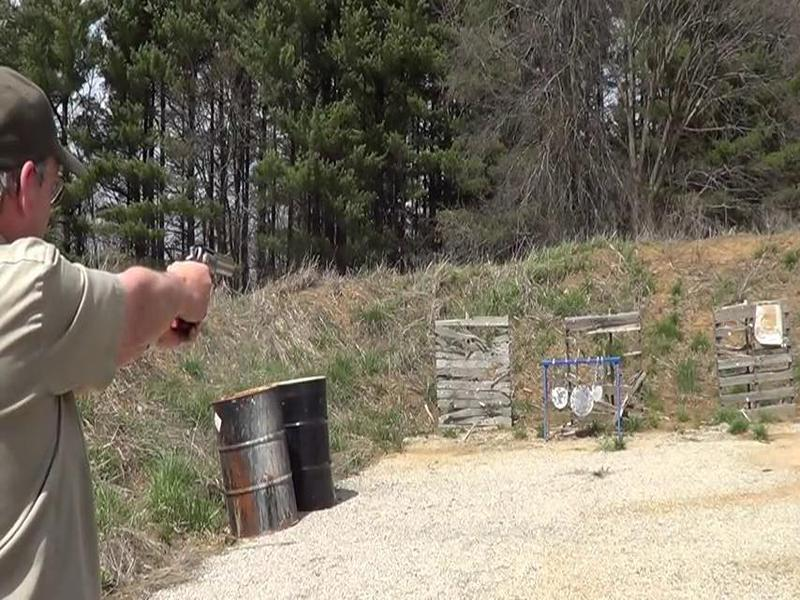Revolver: (173, 235, 237, 296)
